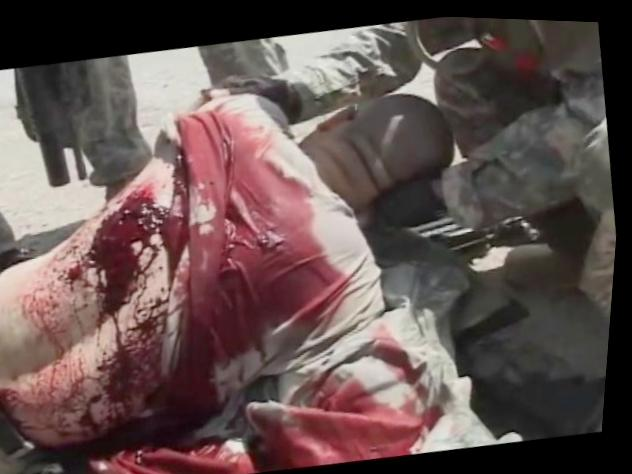Fire: (2, 100, 357, 446), (99, 333, 450, 474)
